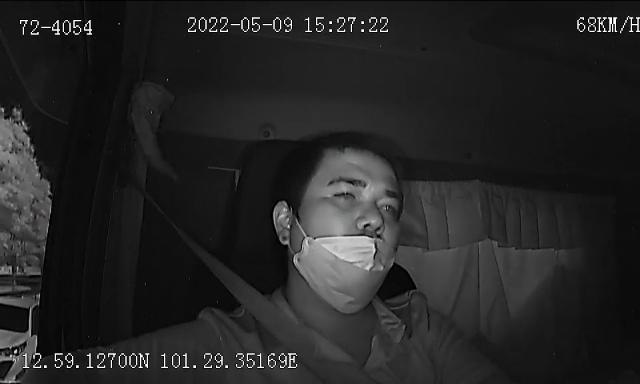SafeDriving: (326, 182, 364, 206), (374, 193, 402, 217)
Seatbelt: (175, 228, 333, 384)
